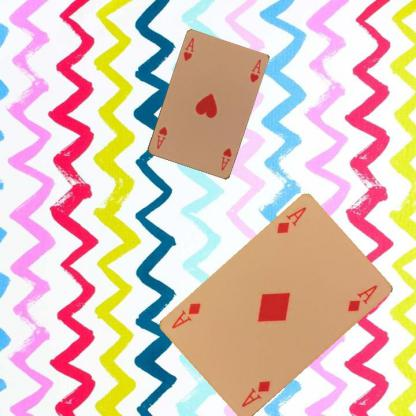Ad: (274, 204, 308, 236), (238, 379, 272, 409)
Ah: (218, 146, 233, 172), (181, 36, 195, 62)
